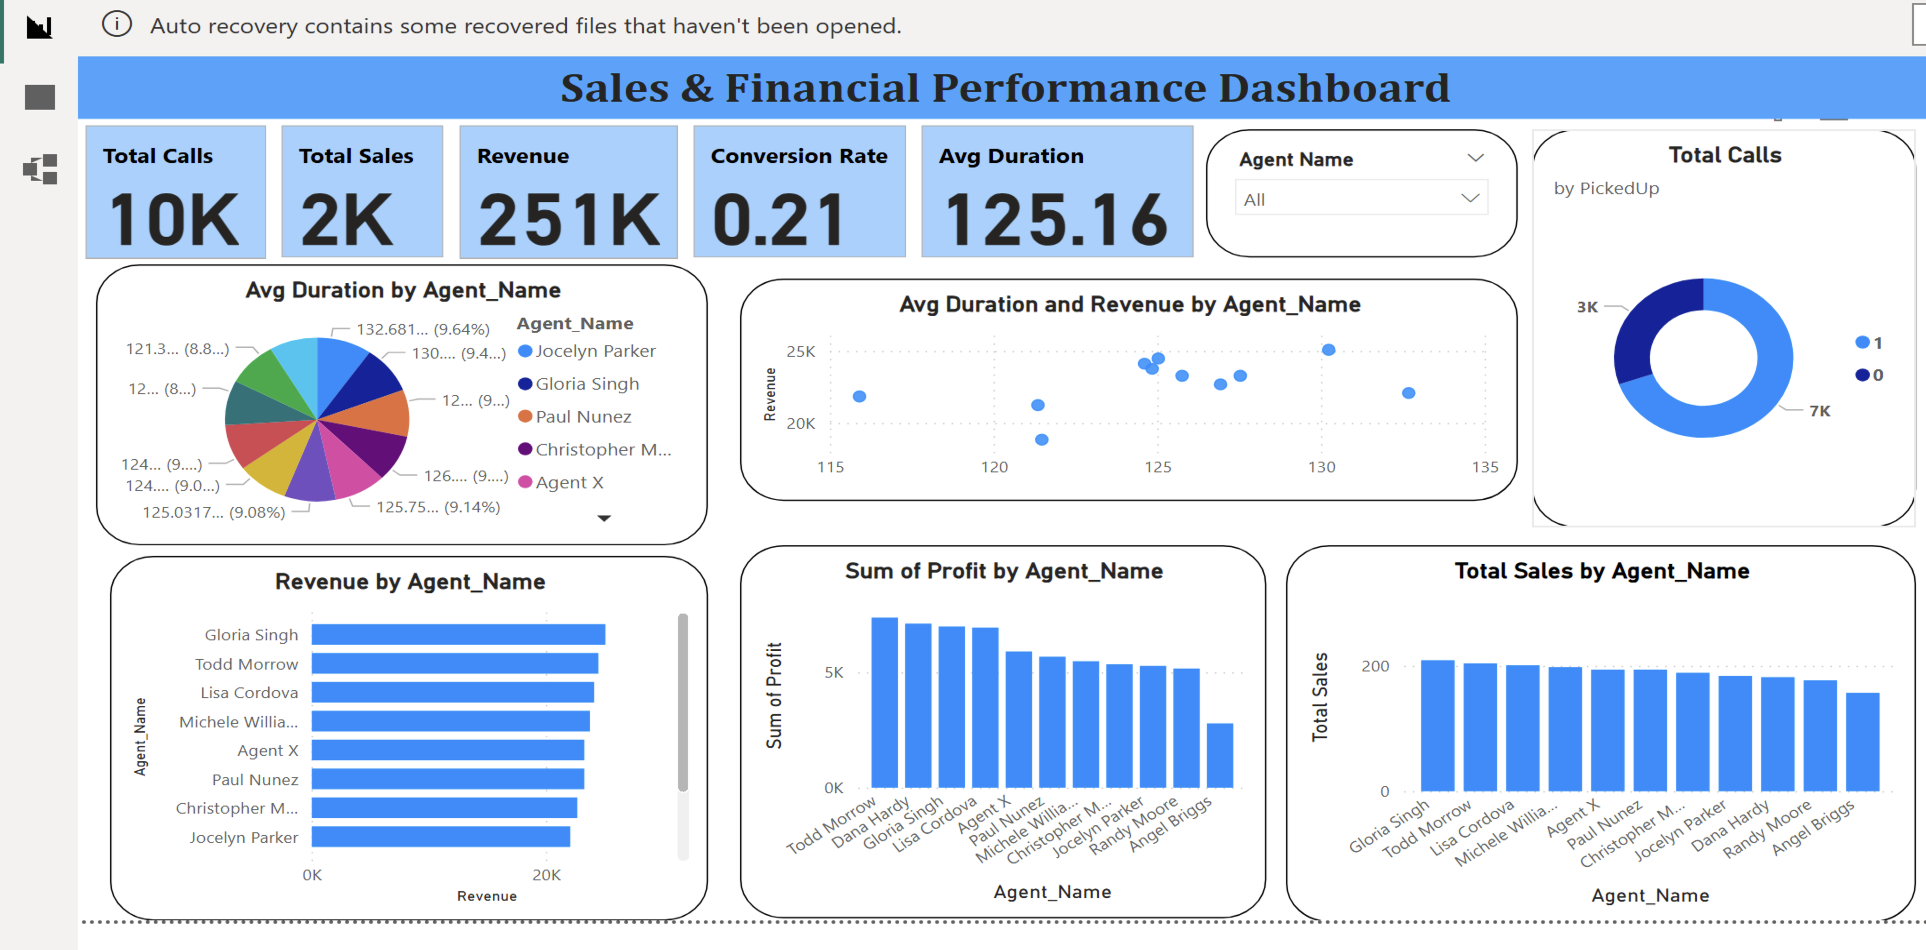

Layout of this report page (visuals, bound fields, positions):
{"tool":"powerbi","page":{"name":"Page 1","canvas":[1280,720],"ordinal":0},"visuals":[{"type":"cardVisual","fields":{"Data":["Product_Sales.Total Calls"]},"box":[0,97.9,135.2,114.5],"z":0},{"type":"cardVisual","fields":{"Data":["Product_Sales.Total Sales"]},"box":[135.2,97.9,122.8,113.1],"z":1000},{"type":"cardVisual","fields":{"Data":["Product_Sales.Revenue"]},"box":[257.9,97.9,161.4,114.5],"z":2000},{"type":"cardVisual","fields":{"Data":["Product_Sales.Conversion Rate"]},"box":[419.3,97.9,157.2,113.1],"z":3000},{"type":"cardVisual","fields":{"Data":["Product_Sales.Avg Duration"]},"box":[576.6,97.9,198.6,113.1],"z":4000},{"type":"clusteredBarChart","fields":{"Category":["Product_Sales.Agent_Name"],"Y":["Product_Sales.Revenue"]},"box":[22.1,437.2,412.4,282.8],"z":5000},{"type":"columnChart","fields":{"Category":["Product_Sales.Agent_Name"],"Y":["Product_Sales.Total Sales"]},"box":[833.1,429,434.5,292.4],"z":6000},{"type":"pieChart","fields":{"Category":["Product_Sales.Agent_Name"],"Y":["Product_Sales.Avg Duration"]},"box":[12.4,211,422.1,217.9],"z":7000},{"type":"donutChart","fields":{"Category":["Product_Sales.PickedUp"],"Y":["Product_Sales.Total Calls"]},"box":[1002.8,106.2,264.8,309],"z":8000},{"type":"scatterChart","fields":{"X":["Product_Sales.Avg Duration"],"Y":["Product_Sales.Revenue"],"Category":["Product_Sales.Agent_Name"]},"box":[456.6,222.1,536.6,172.4],"z":9000},{"type":"textbox","box":[0,49.7,1280,48.3],"z":10000},{"type":"columnChart","fields":{"Category":["Product_Sales.Agent_Name"],"Y":["Sum(Product_Sales.Profit)"]},"box":[456.6,429,362.8,289.7],"z":11000},{"type":"slicer","fields":{"Values":["Product_Sales.Agent_Name"]},"box":[777.9,106.2,215.2,99.3],"z":11001},{"type":"actionButton","box":[0,0,100,40],"z":11002}]}

Visuals, with their boxes in screenshot pixels (x1, y1, x2, y2):
cardVisual - Product_Sales.Total Calls: (145, 112, 321, 261)
cardVisual - Product_Sales.Total Sales: (321, 112, 480, 259)
cardVisual - Product_Sales.Revenue: (480, 112, 690, 261)
cardVisual - Product_Sales.Conversion Rate: (690, 112, 894, 259)
cardVisual - Product_Sales.Avg Duration: (894, 112, 1152, 259)
clusteredBarChart - Product_Sales.Agent_Name x Product_Sales.Revenue: (174, 553, 710, 920)
columnChart - Product_Sales.Agent_Name x Product_Sales.Total Sales: (1227, 542, 1791, 922)
pieChart - Product_Sales.Agent_Name x Product_Sales.Avg Duration: (162, 259, 710, 542)
donutChart - Product_Sales.PickedUp x Product_Sales.Total Calls: (1447, 123, 1791, 524)
scatterChart - Product_Sales.Avg Duration x Product_Sales.Revenue: (738, 273, 1435, 497)
textbox: (145, 49, 1807, 112)
columnChart - Product_Sales.Agent_Name x Sum(Product_Sales.Profit): (738, 542, 1209, 918)
slicer - Product_Sales.Agent_Name: (1155, 123, 1435, 252)
actionButton: (145, 0, 275, 37)
